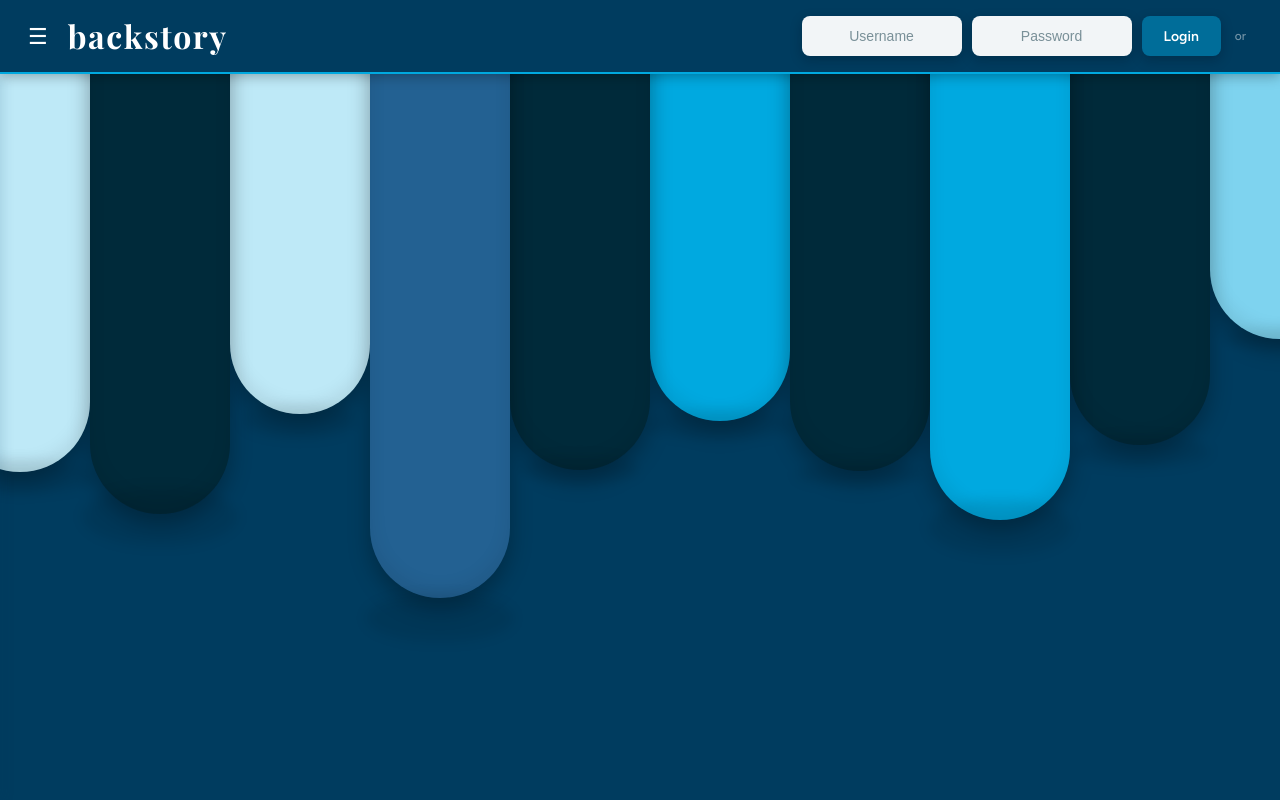
Test case: Landing — filter panel › shows "matching filters" in the count text when filters are active
Click the button named "Toggle filters" at (38, 36), box [20,18,56,54]
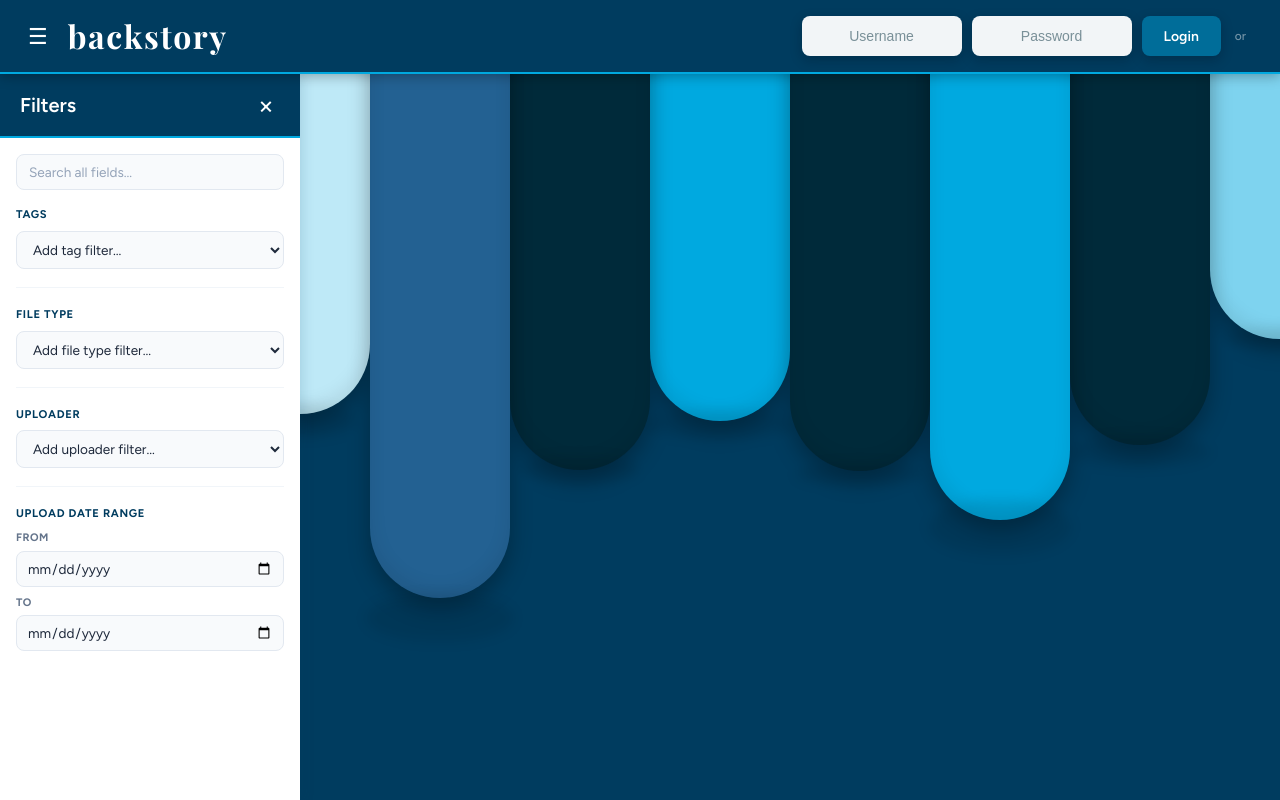
Type "Basket" into the search field with placeholder "Search all fields…" at (150, 172), box [16,154,284,190]
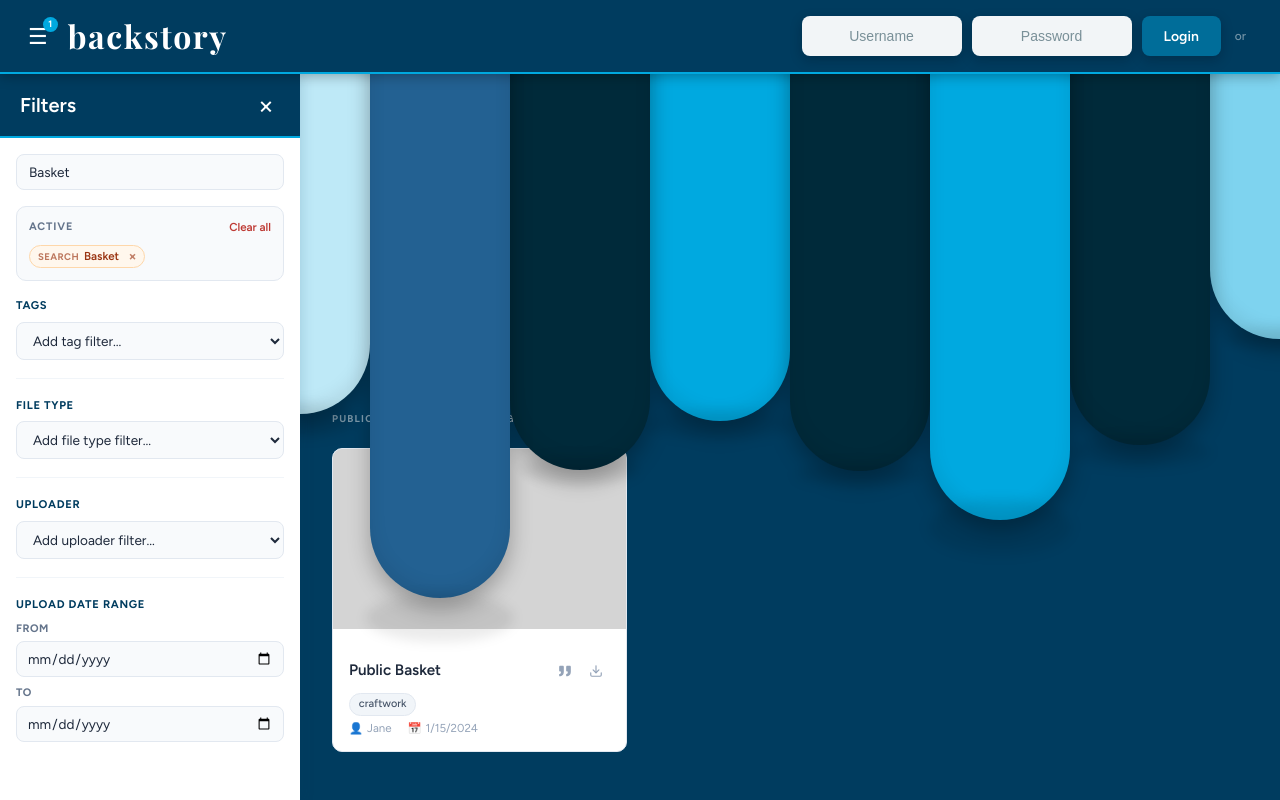
Result: the text "1 artifact matching filters" is shown at [441,408,588,428]
